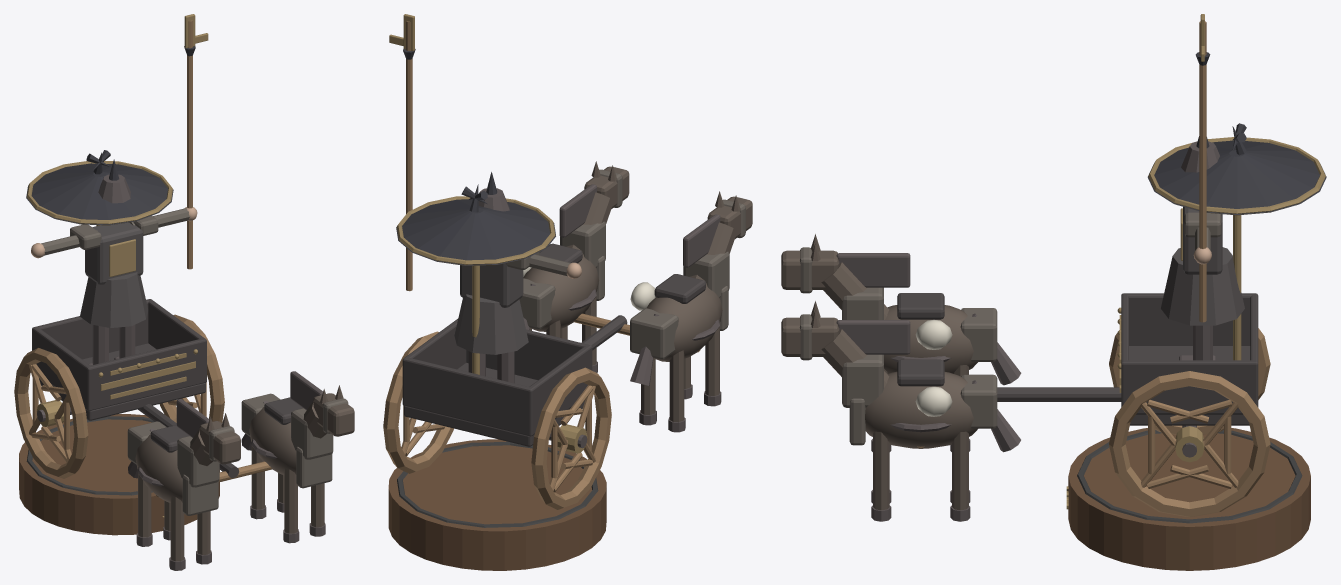
Rendered from chariot_black.glb.
3 renders of one model, left to right at view 1: azimuth 30°, elevation 25°; view 2: azimuth 150°, elevation 25°; view 3: azimuth 270°, elevation 25°, orthographic. The views are drawn at different scales.
Parts seen in each view (by area): view 1: base, c_canopy, c_front, c_wheel_L_rim, c_soldier_skirt, c_back, c_soldier_cuirass, c_horse_L_body, c_horse_R_body, c_side_-0.3, c_side_0.3, c_floor (+32 smaller); view 2: base, c_canopy, c_back, c_wheel_L_rim, c_soldier_skirt, c_wheel_R_rim, c_horse_L_body, c_horse_R_body, c_front, c_side_-0.3, c_soldier_cuirass, c_horse_L_armor_rump (+26 smaller); view 3: base, c_canopy, c_wheel_R_rim, c_horse_R_body, c_side_0.3, c_soldier_skirt, c_side_-0.3, c_horse_L_body, c_floor, c_horse_L_mane, c_horse_R_mane, base_trim_top (+27 smaller).
Boxes of the visible parts, x1,y1,x2,y2 form: base: [19, 414, 219, 535]; c_canopy: [26, 163, 173, 224]; c_front: [90, 339, 205, 410]; c_wheel_L_rim: [14, 348, 88, 478]; c_soldier_skirt: [80, 272, 148, 327]; c_back: [35, 299, 150, 359]; c_soldier_cuirass: [85, 222, 143, 284]; c_horse_L_body: [135, 434, 182, 502]; c_horse_R_body: [249, 407, 296, 474]; c_side_-0.3: [32, 326, 92, 411]; c_side_0.3: [148, 299, 206, 382]; c_floor: [39, 343, 205, 420]; base: [388, 439, 606, 570]; c_canopy: [396, 199, 555, 265]; c_back: [404, 358, 530, 435]; c_wheel_L_rim: [531, 367, 611, 509]; c_soldier_skirt: [454, 294, 528, 354]; c_wheel_R_rim: [383, 331, 453, 473]; c_horse_L_body: [647, 286, 722, 361]; c_horse_R_body: [523, 256, 598, 331]; c_front: [466, 329, 587, 379]; c_side_-0.3: [527, 344, 592, 436]; c_soldier_cuirass: [460, 263, 523, 307]; c_horse_L_armor_rump: [630, 308, 678, 359]; base: [1068, 428, 1310, 570]; c_canopy: [1147, 140, 1326, 214]; c_wheel_R_rim: [1109, 371, 1270, 517]; c_horse_R_body: [865, 371, 977, 448]; c_side_0.3: [1121, 360, 1258, 414]; c_soldier_skirt: [1161, 247, 1244, 325]; c_side_-0.3: [1121, 293, 1257, 345]; c_horse_L_body: [884, 305, 977, 373]; c_floor: [1129, 346, 1250, 425]; c_horse_L_mane: [836, 253, 910, 287]; c_horse_R_mane: [836, 320, 910, 354]; base_trim_top: [1077, 430, 1302, 523].
Bounding box in the file's own units: 0.969 × 2.29 × 2.07.
